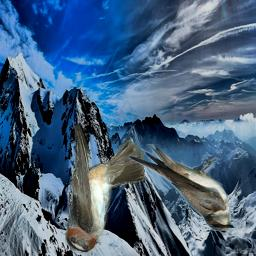Swallow: (65, 123, 144, 253), (129, 144, 235, 231)
